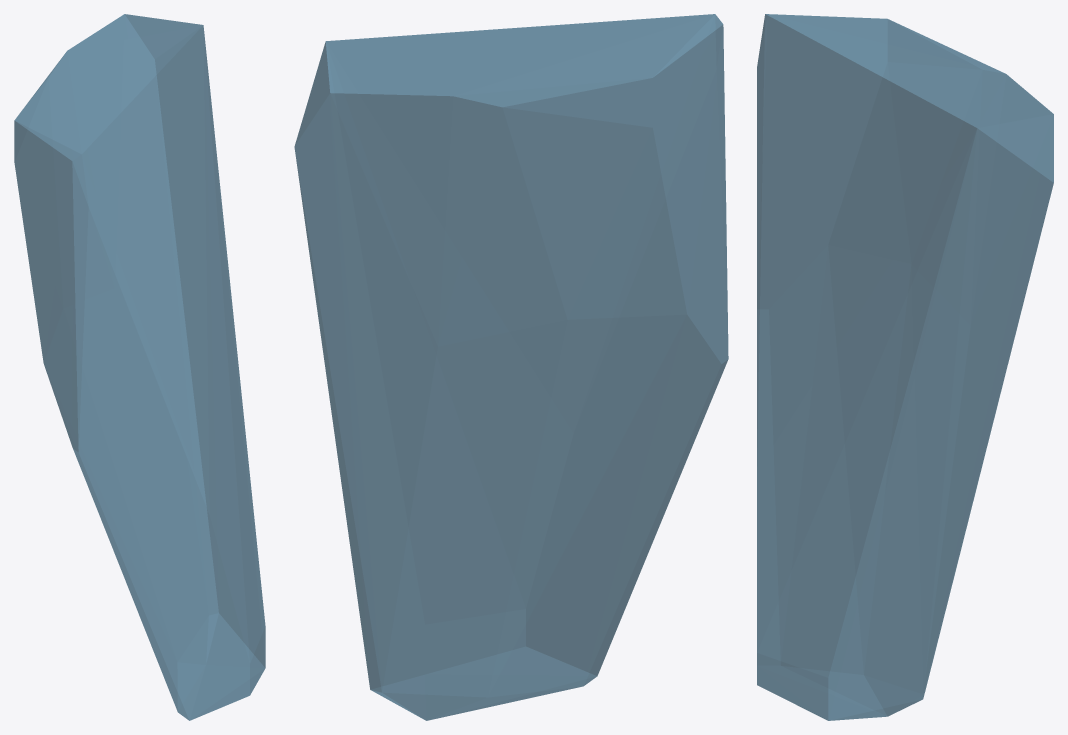
The picture shows the model from 3 angles, left to right: view 1: azimuth 30°, elevation 25°; view 2: azimuth 150°, elevation 25°; view 3: azimuth 270°, elevation 25°; orthographic projection. The views are drawn at different scales.
Parts seen in each view (by area): view 1: Shape_IndexedFaceSet.029_Shape_IndexedFaceSet.18005; view 2: Shape_IndexedFaceSet.029_Shape_IndexedFaceSet.18005; view 3: Shape_IndexedFaceSet.029_Shape_IndexedFaceSet.18005.
Boxes of the visible parts, box(x1,y1,x2,y2) form: Shape_IndexedFaceSet.029_Shape_IndexedFaceSet.18005: box(14, 14, 265, 720); Shape_IndexedFaceSet.029_Shape_IndexedFaceSet.18005: box(294, 14, 728, 720); Shape_IndexedFaceSet.029_Shape_IndexedFaceSet.18005: box(757, 14, 1053, 720).
Bounding box in the file's own units: 0.1762 × 0.4315 × 0.19.
